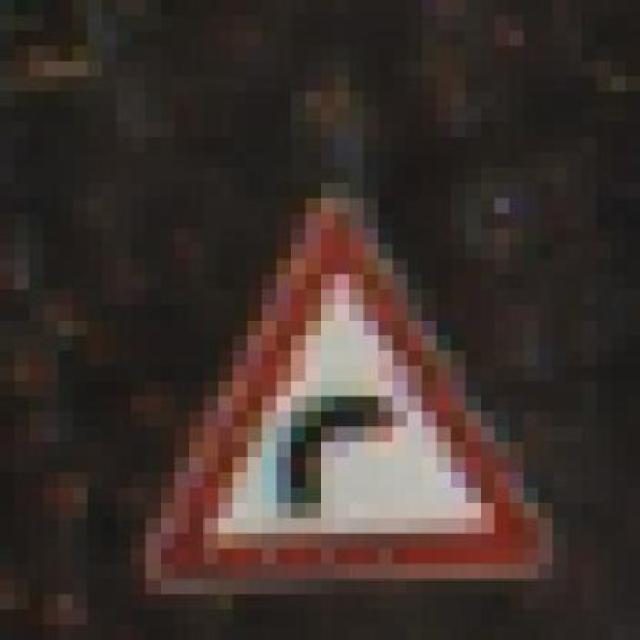Dangerous Rright Curve Ahead: (130, 182, 568, 595)
